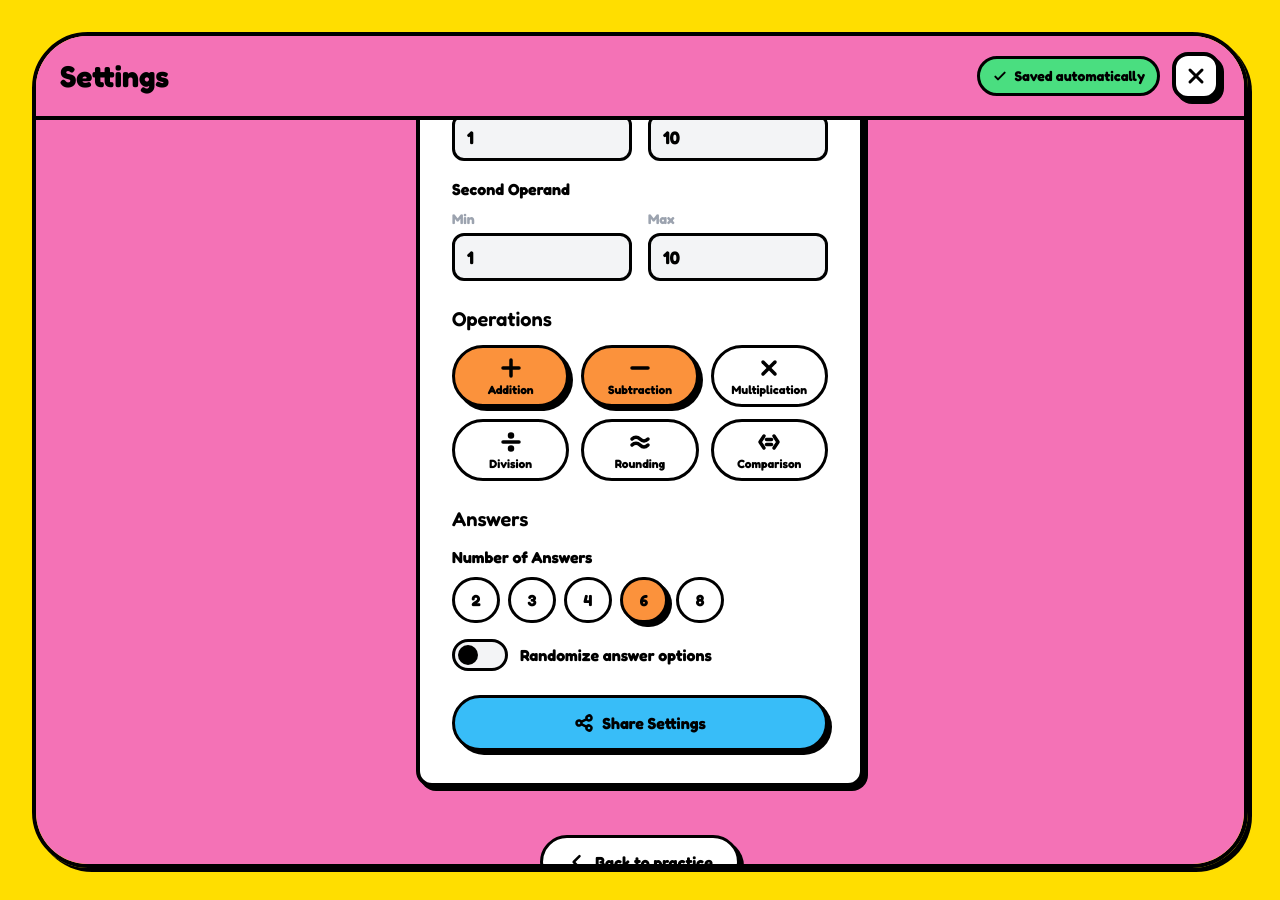
Settings Page › shows rounding and comparison settings only when those operations are selected
(page scrolled)
Click the button titled "Rounding" at [640, 450], box [581,419,699,481]
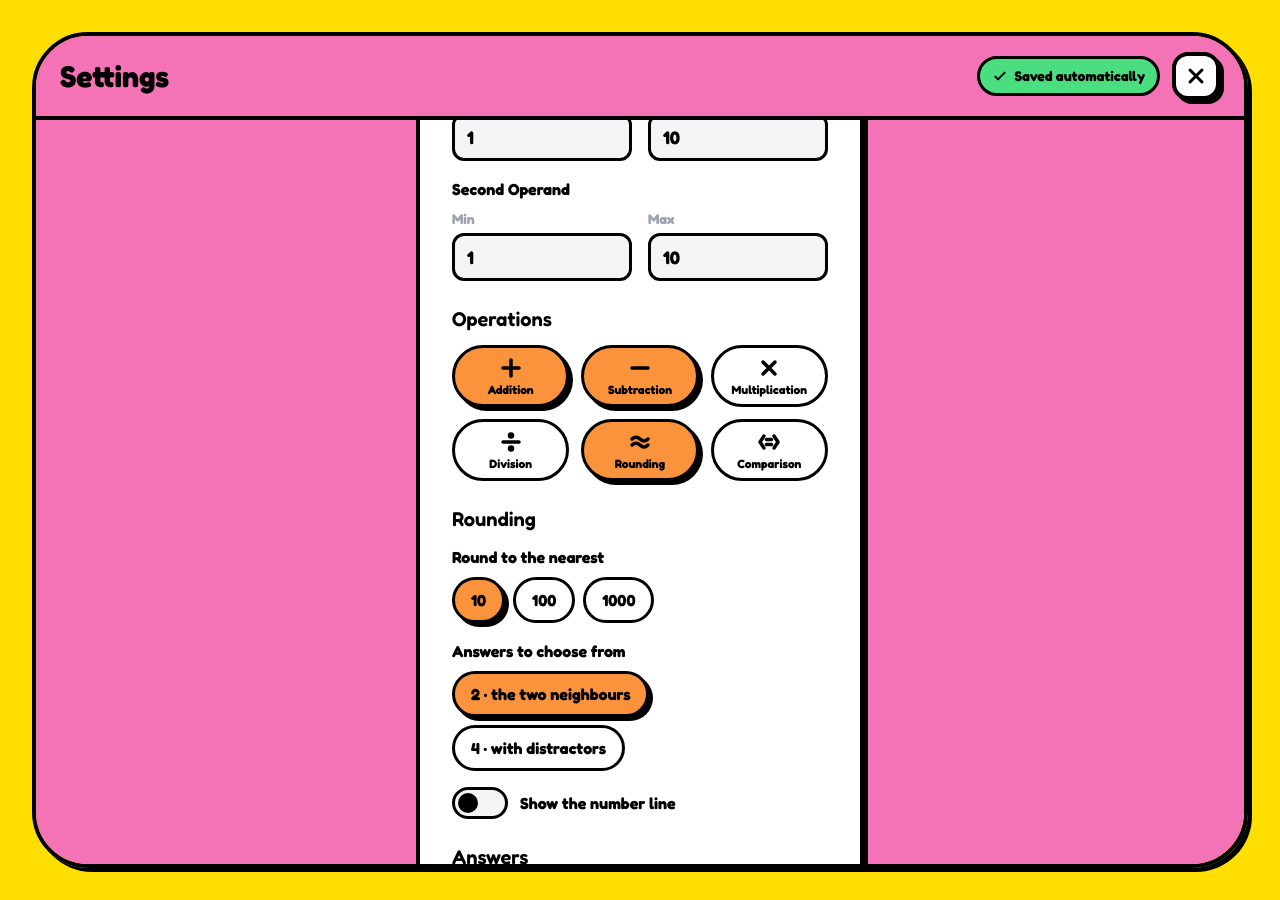
Check: the element with test id "rounding-settings" is shown, box [452,507,676,819]
Click the button titled "Comparison" at [769, 450], box [711,419,828,481]
(page scrolled)
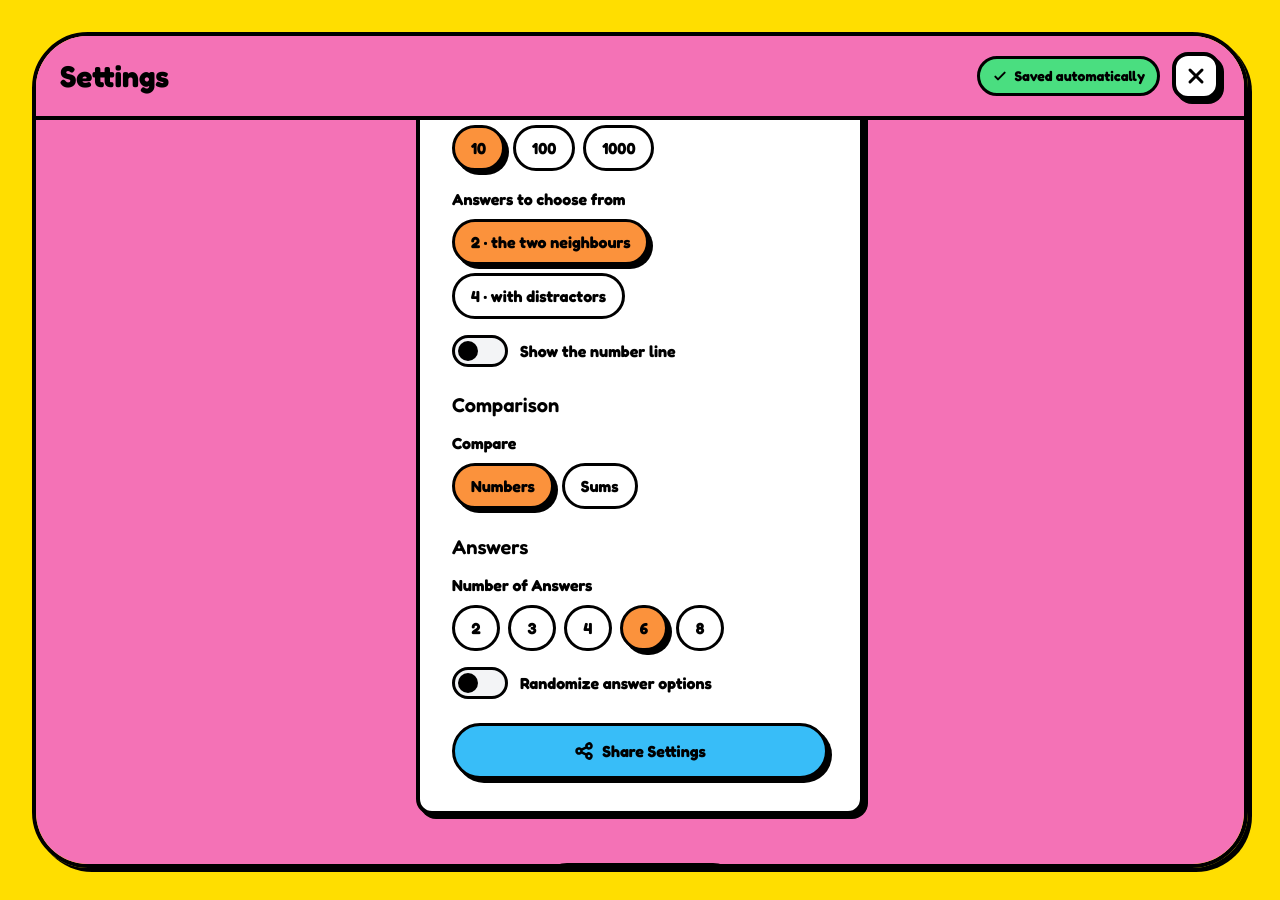
Check: the element with test id "comparison-settings" is shown, box [452,393,638,509]
